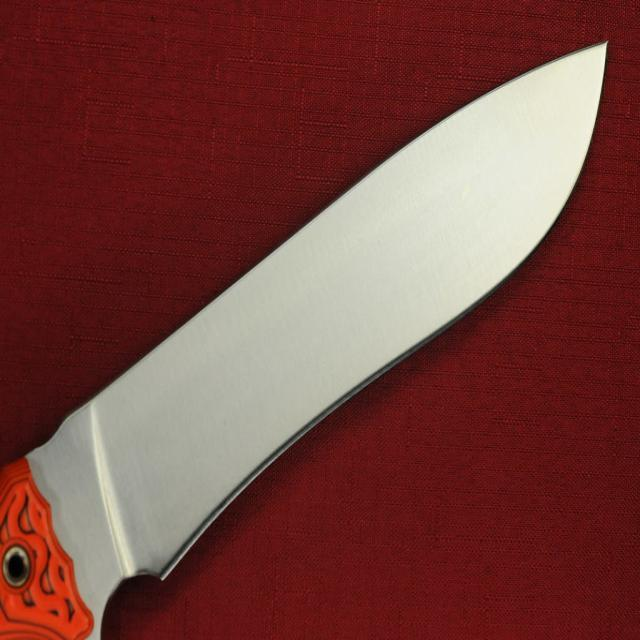Knife: (0, 44, 606, 639)
